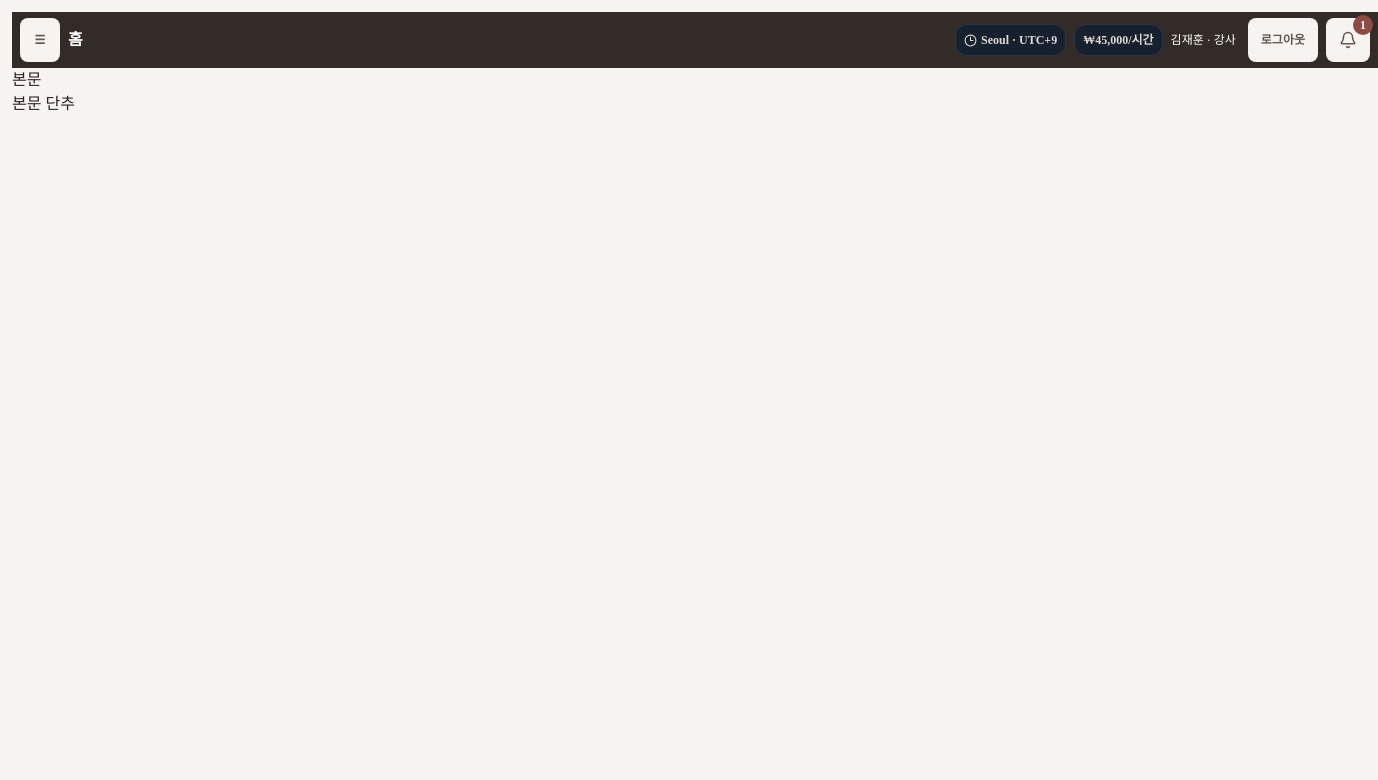
Test: 포커스·닫기 — 키보드로 열고 닫을 수 있다 › Escape 는 패널을 닫고 포커스를 ☰ 로 돌려준다
Click the button named "메뉴".
click(40, 40)  # box left=20, top=18, right=60, bottom=62
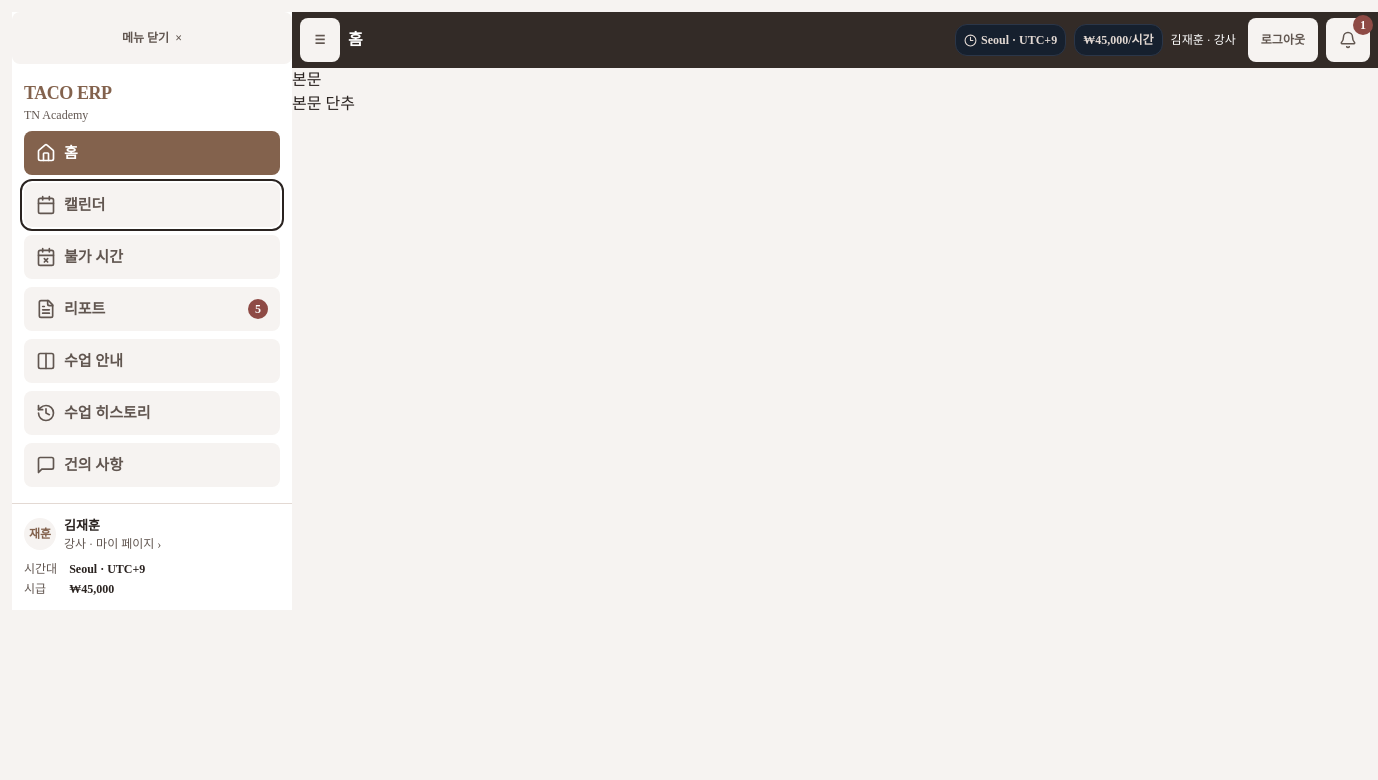
Press Escape in the link "캘린더", box left=24, top=183, right=280, bottom=227
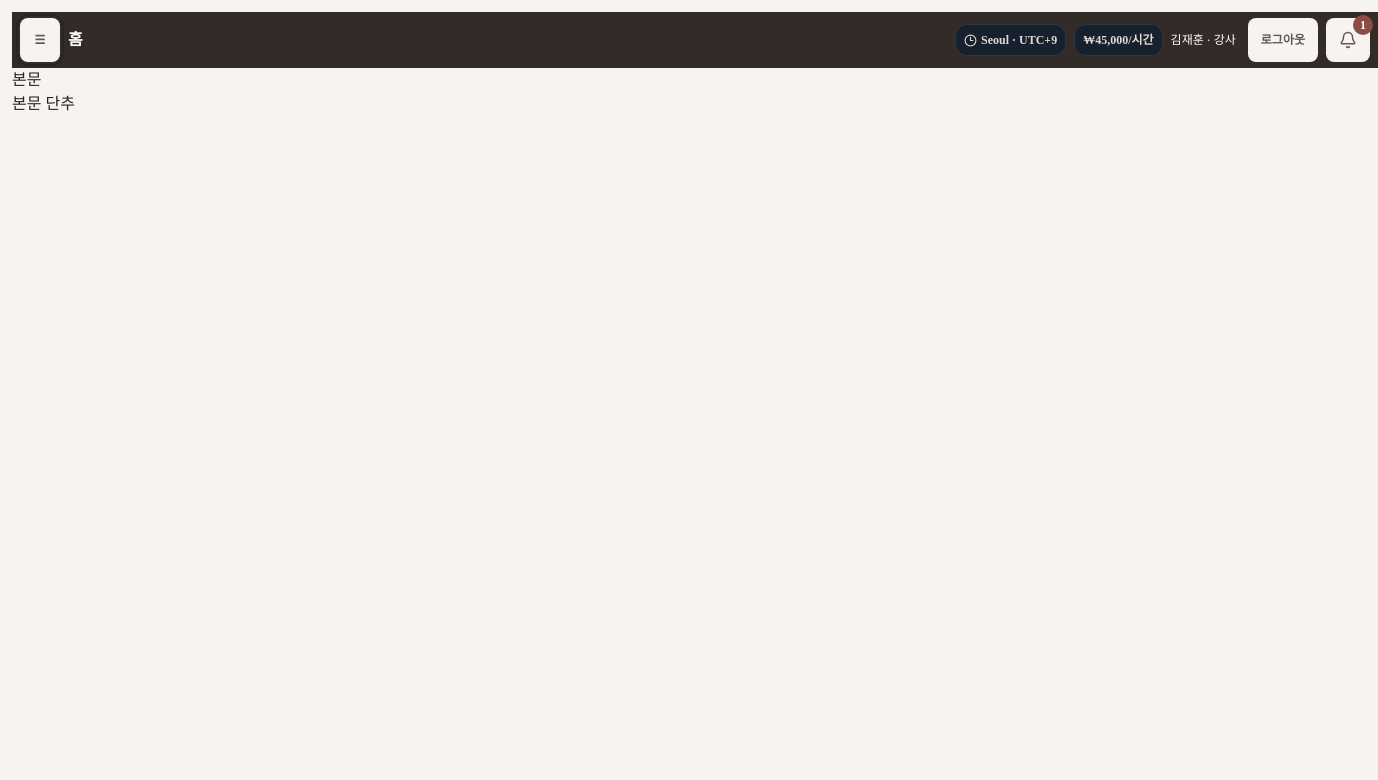
Expected: the button named "메뉴" is collapsed, left=20, top=18, right=60, bottom=62
